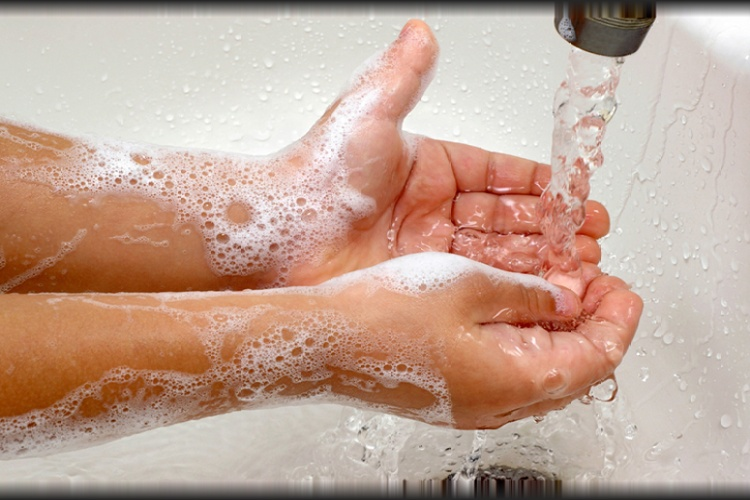washing hand: (91, 30, 715, 441)
